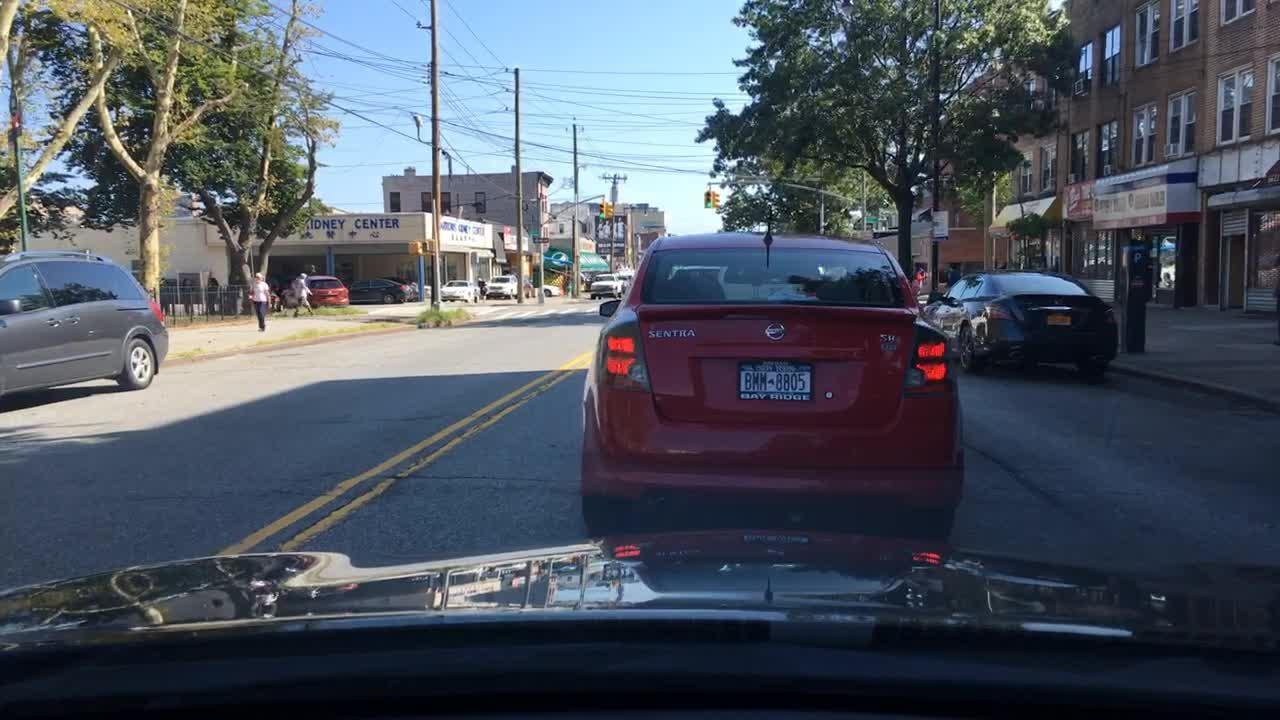Nissan: (761, 314, 792, 348)
